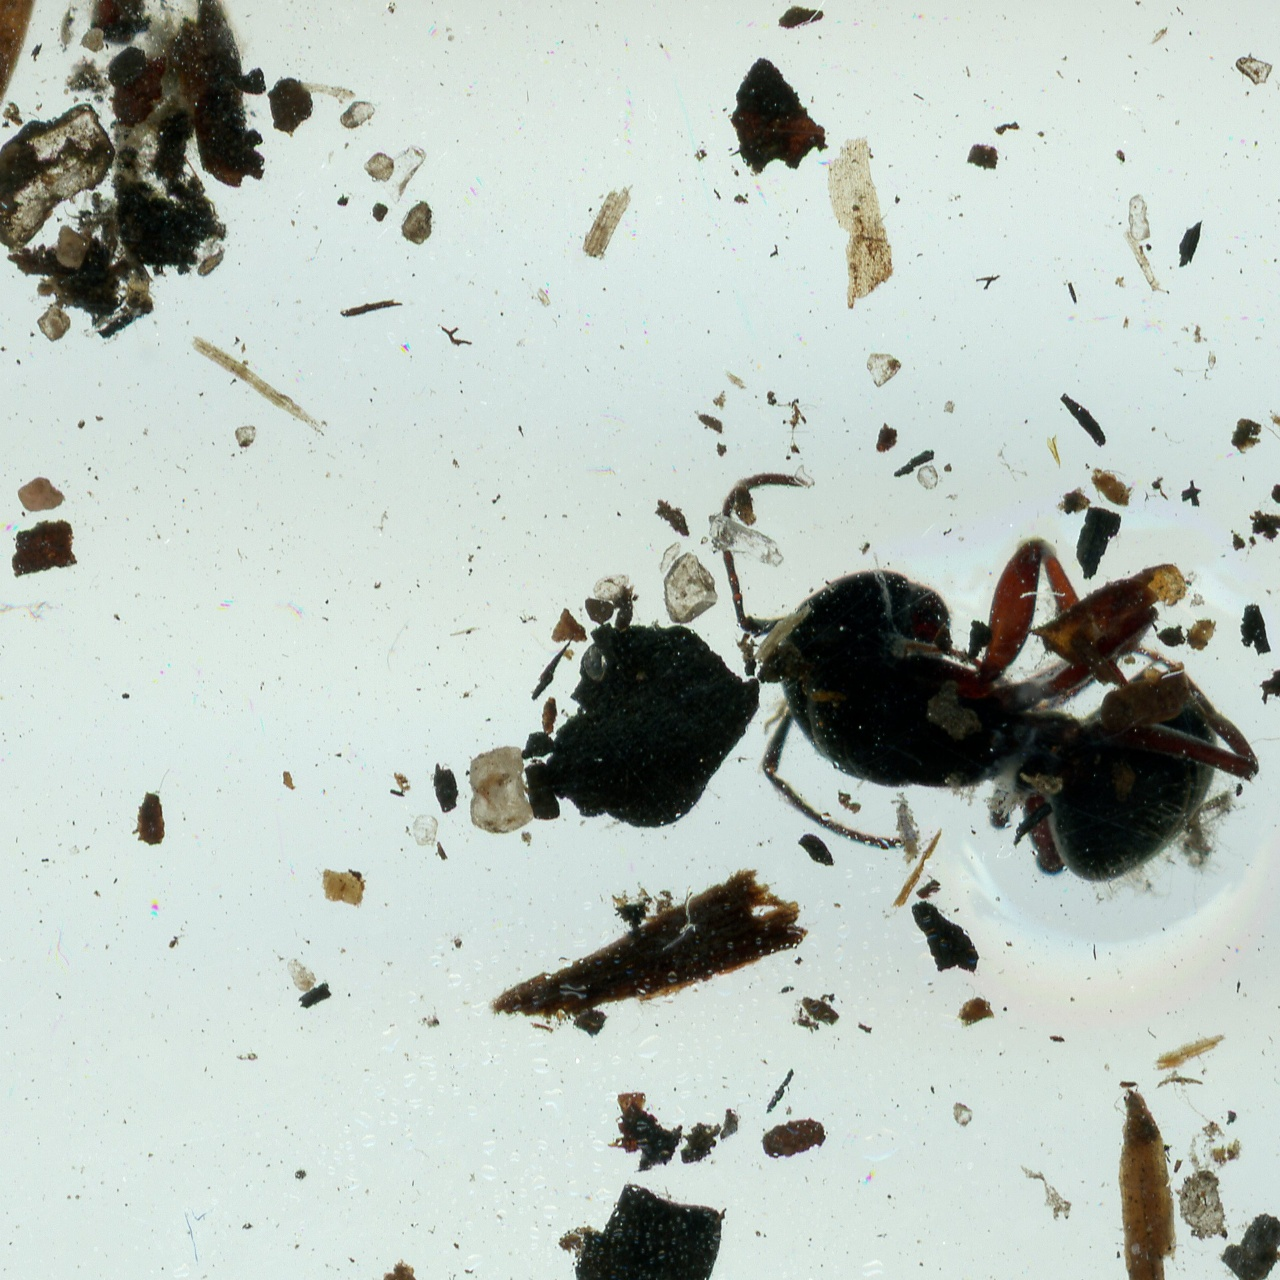arthropod: (715, 470, 1270, 889), (889, 789, 936, 865), (1087, 462, 1139, 510)
